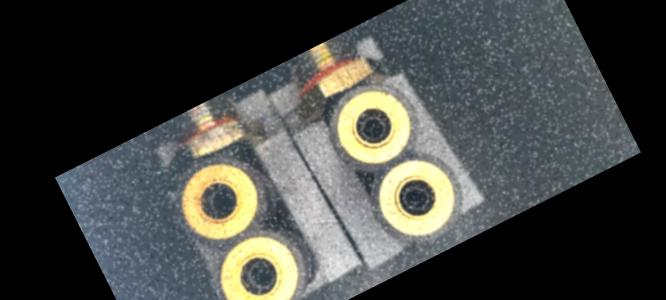off-centered: (391, 173, 440, 221), (237, 253, 282, 297)
